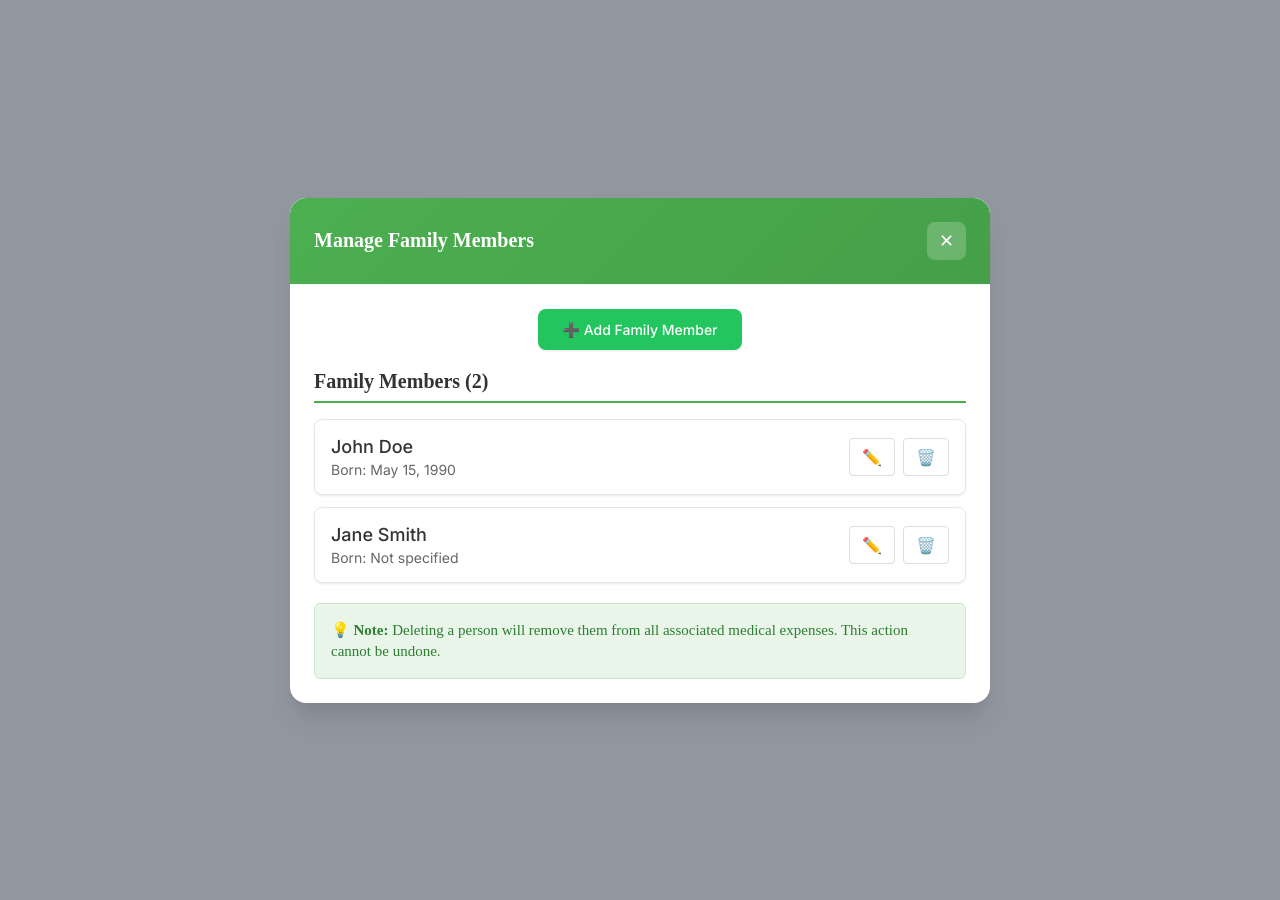
PeopleManagementModal › Person Creation › should show add person form when add button is clicked
Expected: the text "John Doe" is shown, [331,436,413,456]
Click the button "➕ Add Family Member": (640, 329) [538,308,742,350]
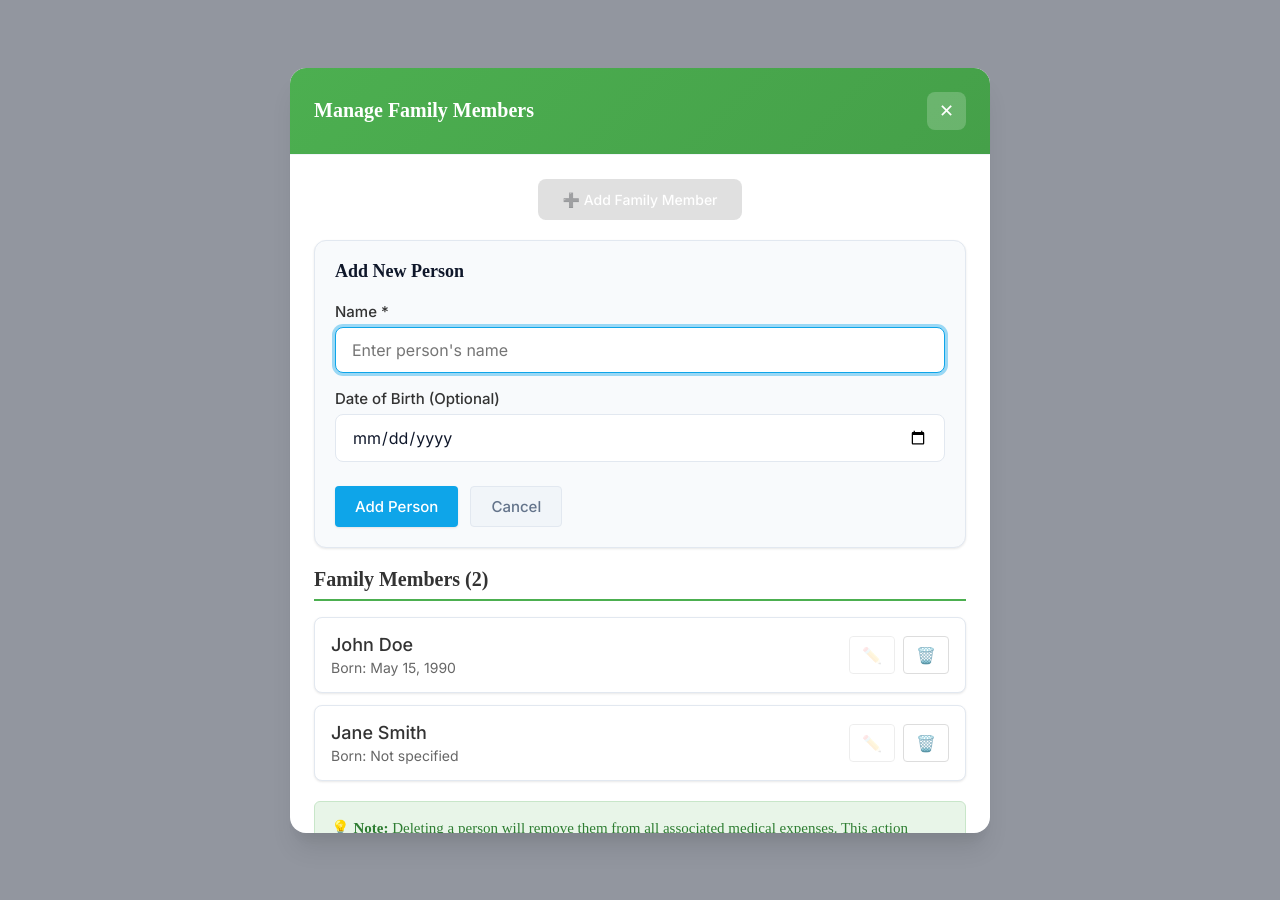
Now the heading "Add New Person" is shown, box [335,260,464,280]
Now the field labelled "Name *" is shown, box [335,326,945,372]
Now the date field labelled "Date of Birth (Optional)" is shown, box [335,414,945,462]
